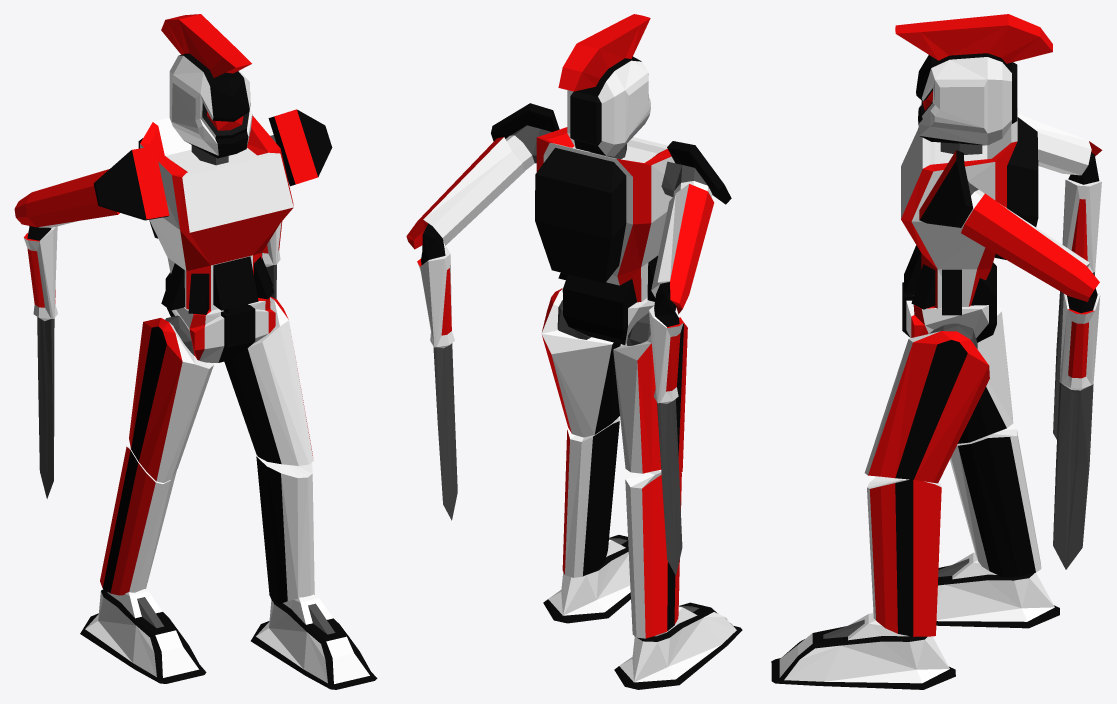
Rendered from robots_000020.obj.
3 views of the same model, side by side, from view 1: azimuth 30°, elevation 25°; view 2: azimuth 150°, elevation 25°; view 3: azimuth 270°, elevation 25° (orthographic). The views are drawn at different scales.
Parts seen in each view (by area): view 1: Chest_plate_Cube.004, Head_gladiator_Cube.024, R_Thigh_Cube.005, R_Forearm.001_Cube.028, R_Thigh.002_Cube.027, R_Shin.002_Cube.029, R_Foot_Cube, R_Foot.002_Cube.035, R_Shin_Cube.007, Pelvis_Cube.006, R_Arm.002_Cube.032, R_Arm.003_Cube.034 (+1 smaller); view 2: Chest_plate_Cube.004, R_Forearm.002_Cube.033, R_Forearm.001_Cube.028, Head_gladiator_Cube.024, R_Shin_Cube.007, R_Shin.002_Cube.029, R_Thigh.002_Cube.027, R_Thigh_Cube.005, R_Foot_Cube, Pelvis_Cube.006, R_Foot.002_Cube.035, R_Arm.003_Cube.034 (+2 smaller); view 3: R_Forearm.002_Cube.033, Chest_plate_Cube.004, Head_gladiator_Cube.024, R_Thigh.002_Cube.027, R_Shin.002_Cube.029, R_Shin_Cube.007, R_Foot.002_Cube.035, R_Foot_Cube, R_Forearm.001_Cube.028, R_Thigh_Cube.005, Pelvis_Cube.006, R_Arm.003_Cube.034.
Part boxes in pixels (box(x1,y1,x2,y2)): Chest_plate_Cube.004: box(138, 116, 293, 314); Head_gladiator_Cube.024: box(161, 14, 252, 158); R_Thigh_Cube.005: box(129, 318, 213, 482); R_Forearm.001_Cube.028: box(14, 169, 119, 498); R_Thigh.002_Cube.027: box(224, 296, 313, 465); R_Shin.002_Cube.029: box(256, 455, 314, 604); R_Foot_Cube: box(80, 589, 206, 683); R_Foot.002_Cube.035: box(251, 594, 377, 689); R_Shin_Cube.007: box(100, 446, 176, 595); Pelvis_Cube.006: box(165, 272, 275, 362); R_Arm.002_Cube.032: box(93, 146, 169, 220); R_Arm.003_Cube.034: box(268, 109, 332, 186); Chest_plate_Cube.004: box(535, 127, 674, 302); R_Forearm.002_Cube.033: box(406, 137, 524, 520); R_Forearm.001_Cube.028: box(649, 184, 714, 575); Head_gladiator_Cube.024: box(558, 14, 650, 156); R_Shin_Cube.007: box(625, 469, 681, 638); R_Shin.002_Cube.029: box(562, 417, 619, 577); R_Thigh.002_Cube.027: box(541, 288, 620, 437); R_Thigh_Cube.005: box(613, 321, 687, 473); R_Foot_Cube: box(614, 602, 742, 689); Pelvis_Cube.006: box(562, 274, 654, 345); R_Foot.002_Cube.035: box(543, 535, 630, 623); R_Arm.003_Cube.034: box(491, 103, 559, 170); R_Forearm.002_Cube.033: box(961, 193, 1100, 569); Chest_plate_Cube.004: box(901, 108, 1038, 315); Head_gladiator_Cube.024: box(895, 14, 1052, 145); R_Thigh.002_Cube.027: box(864, 331, 989, 483); R_Shin.002_Cube.029: box(867, 476, 941, 636); R_Shin_Cube.007: box(950, 424, 1041, 577); R_Foot.002_Cube.035: box(771, 613, 955, 689); R_Foot_Cube: box(936, 552, 1059, 628); R_Forearm.001_Cube.028: box(1017, 114, 1102, 439); R_Thigh_Cube.005: box(958, 301, 1013, 443); Pelvis_Cube.006: box(902, 262, 996, 342); R_Arm.003_Cube.034: box(919, 150, 984, 227).
Size of the model in its own units: 1.51 by 3.17 by 1.52.
